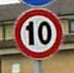limite 10: (12, 9, 63, 58)
